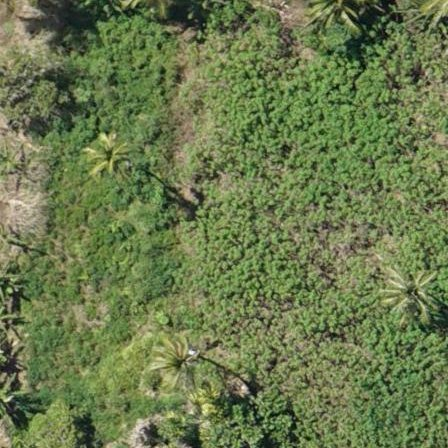palm_tree: (377, 257, 436, 320), (80, 123, 133, 180), (150, 336, 203, 393)
